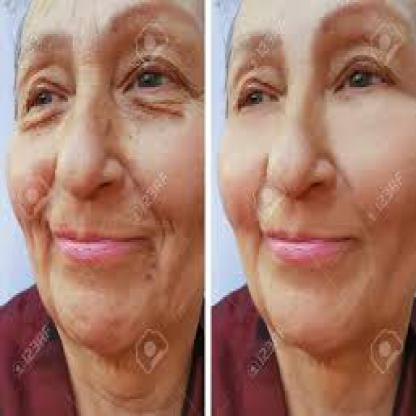darkspot: (183, 255, 243, 317), (244, 69, 283, 141), (254, 206, 294, 260), (184, 186, 209, 232), (284, 298, 312, 324), (335, 173, 351, 196), (234, 161, 244, 183)
